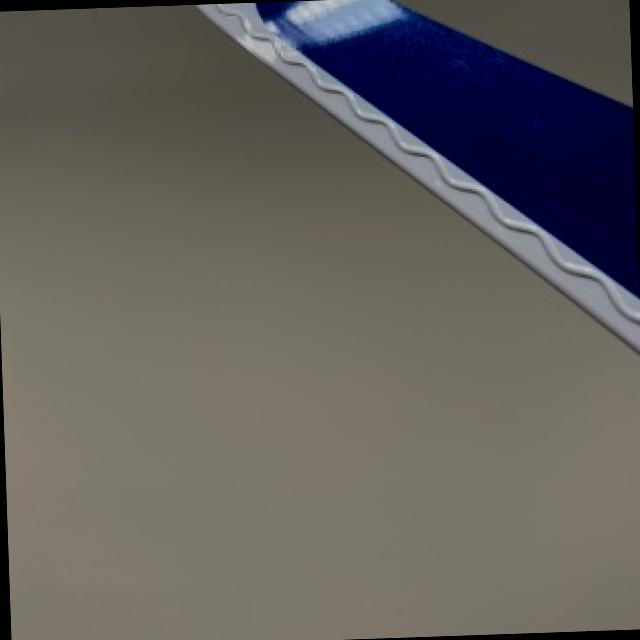healthy: (200, 0, 640, 346)
